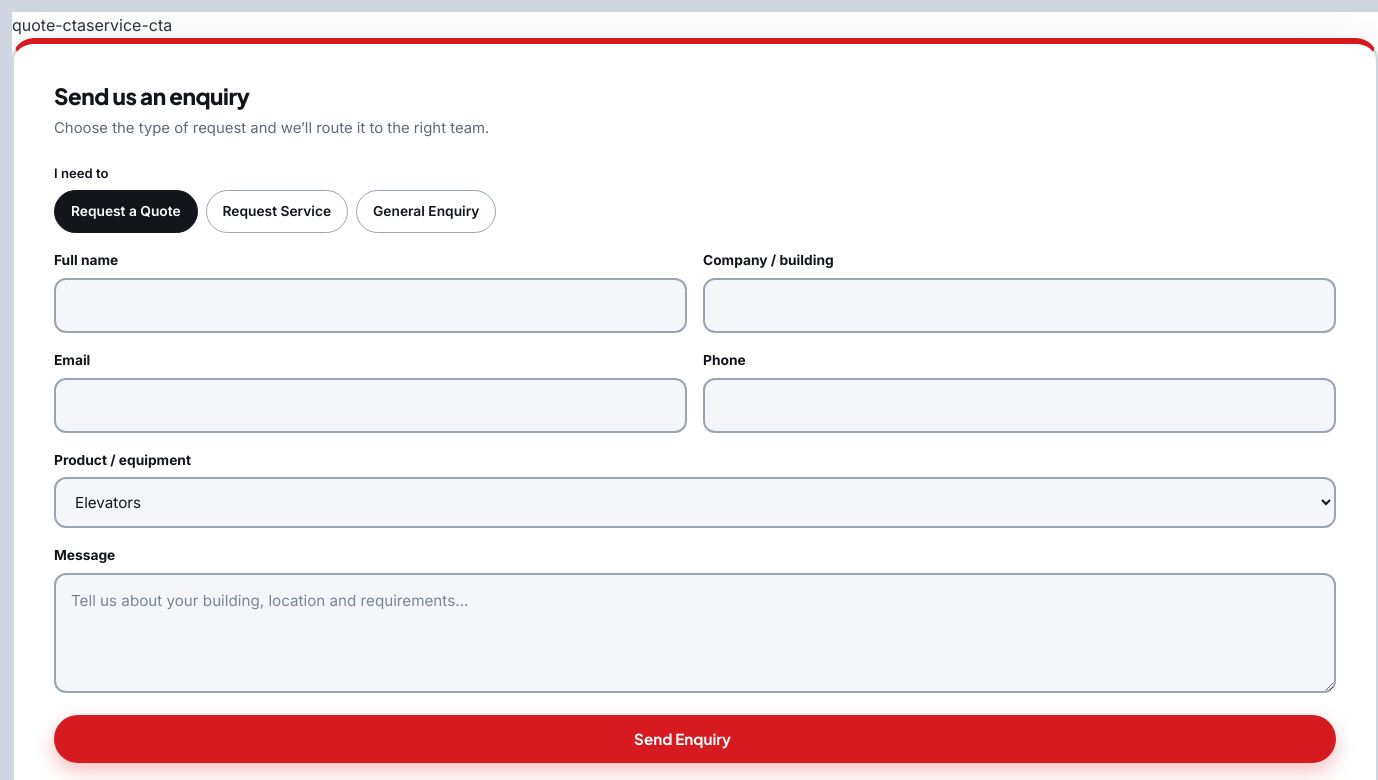
Test case: EnquiryForm › preselects Request Service when a data-type=service CTA is clicked
This screenshot has width=1378, height=780.
Click the link "service-cta" at (129, 25), box [86,15,172,35]
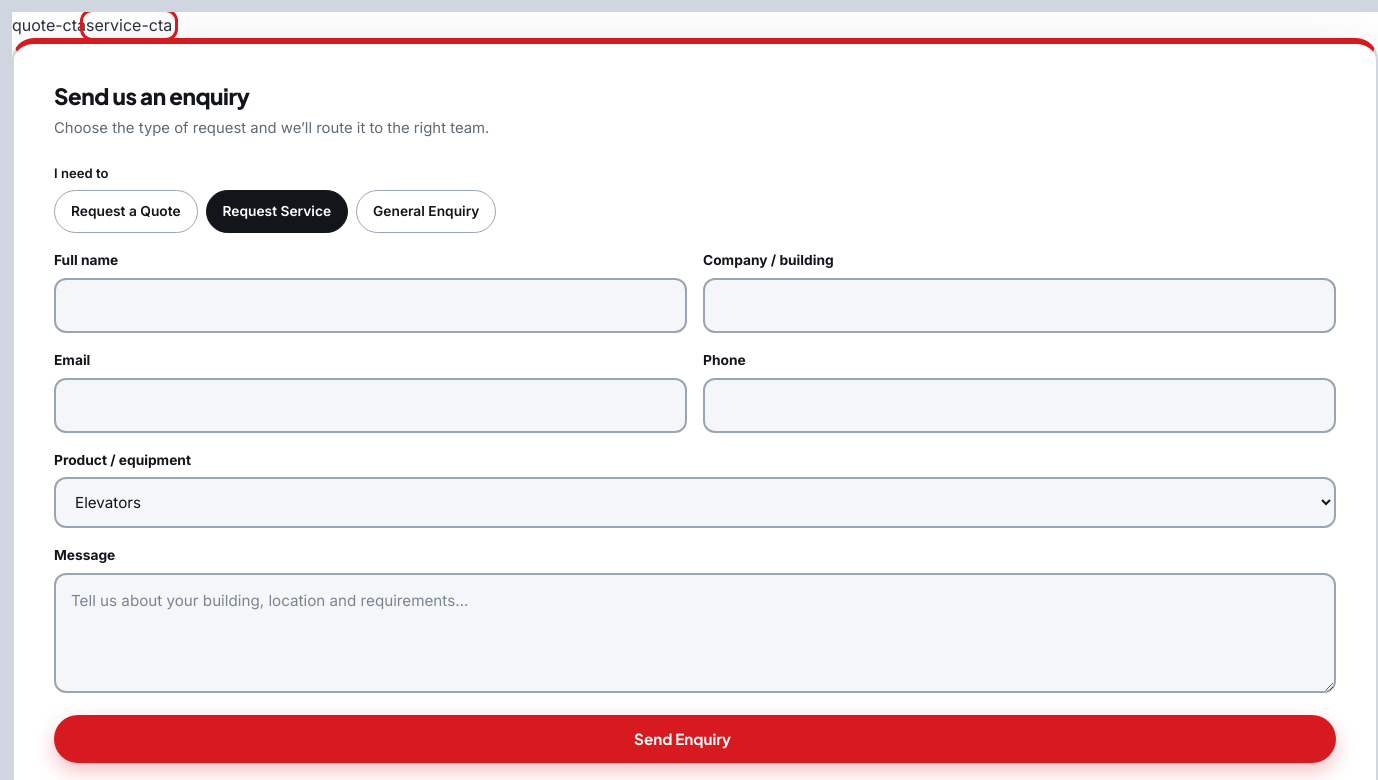
Expected: the radio button labelled "Request Service" is checked, [206,190,348,233]
Expected: the radio button labelled "Request a Quote" is not checked, [54,190,198,233]
Click the link "quote-cta" at (49, 25), box [12,15,86,35]
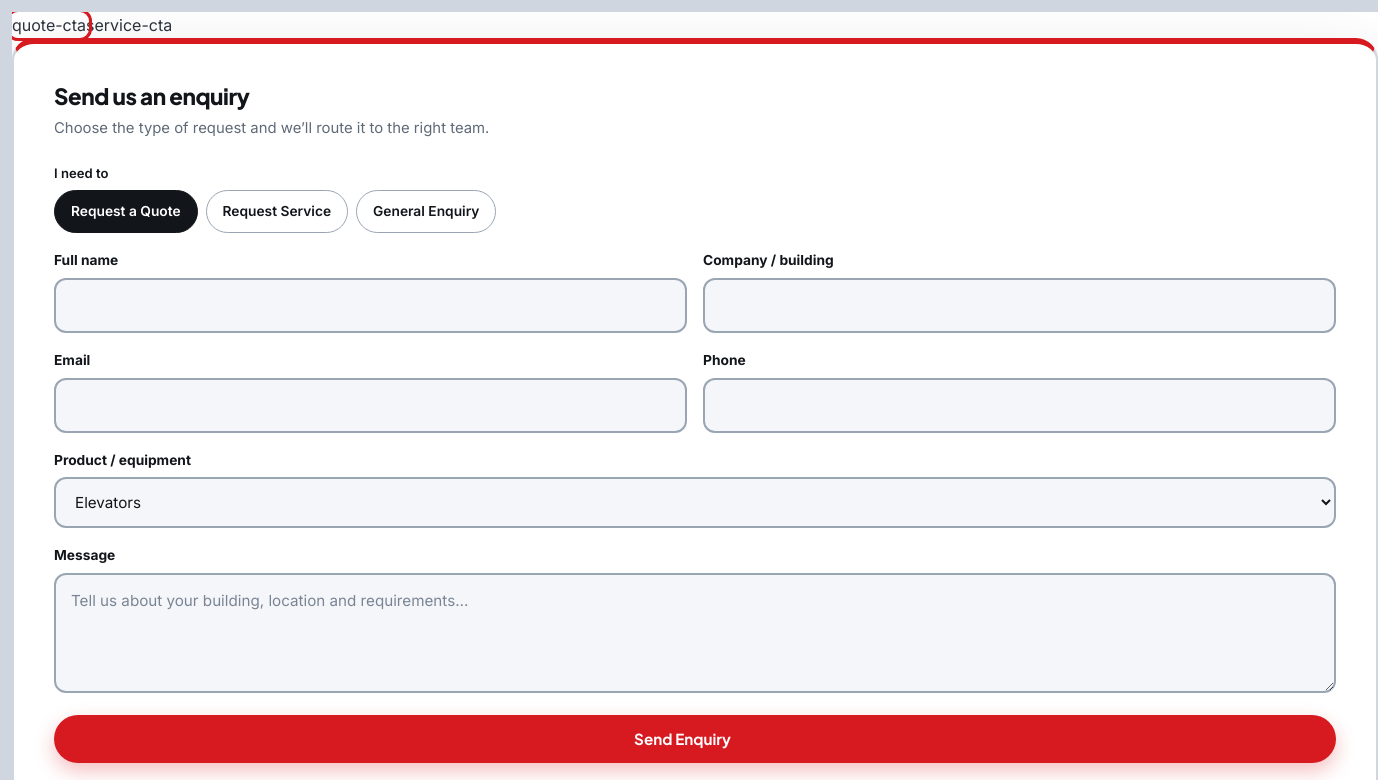
Expected: the radio button labelled "Request a Quote" is checked, [54,190,198,233]
